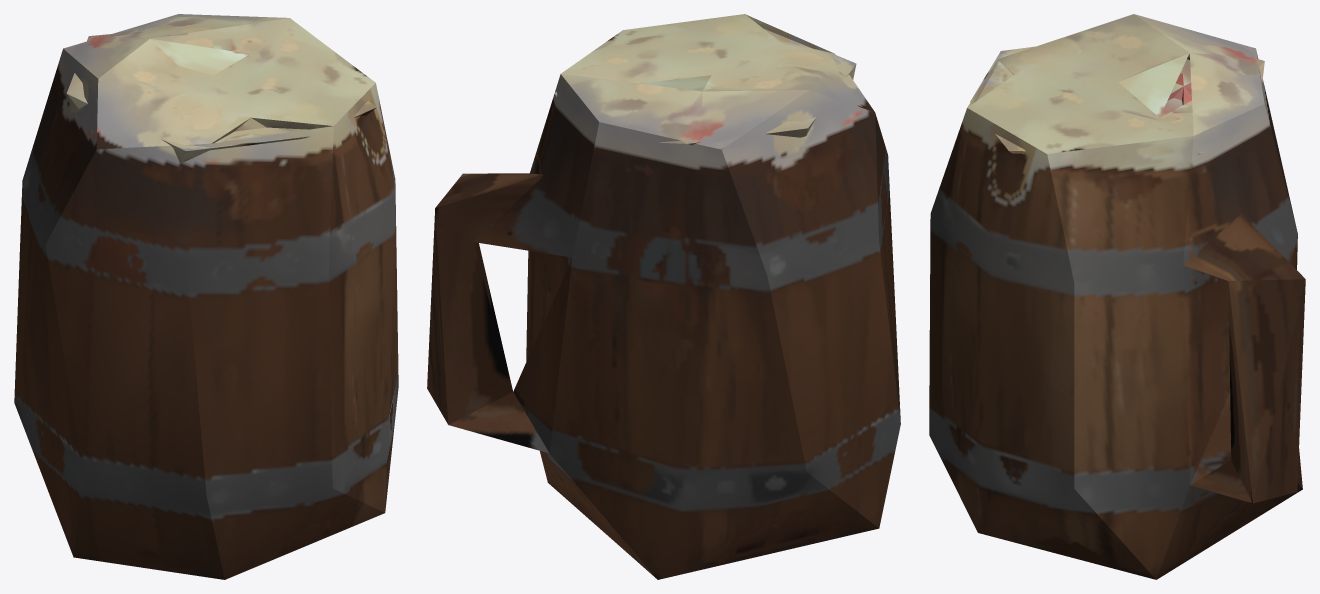
File: mug_lod0.glb
3 renders of one model, left to right at view 1: azimuth 30°, elevation 25°; view 2: azimuth 150°, elevation 25°; view 3: azimuth 270°, elevation 25°, orthographic.
Visible parts, largest first — view 1: low; view 2: low; view 3: low.
Part boxes in pixels (x1,y1,x2,y2): low: (14, 14, 398, 579); low: (427, 14, 900, 579); low: (929, 14, 1305, 579).
Size of the model in its own units: 0.1489 by 0.1653 by 0.127.
Materials: 1 (1 with a texture image).
